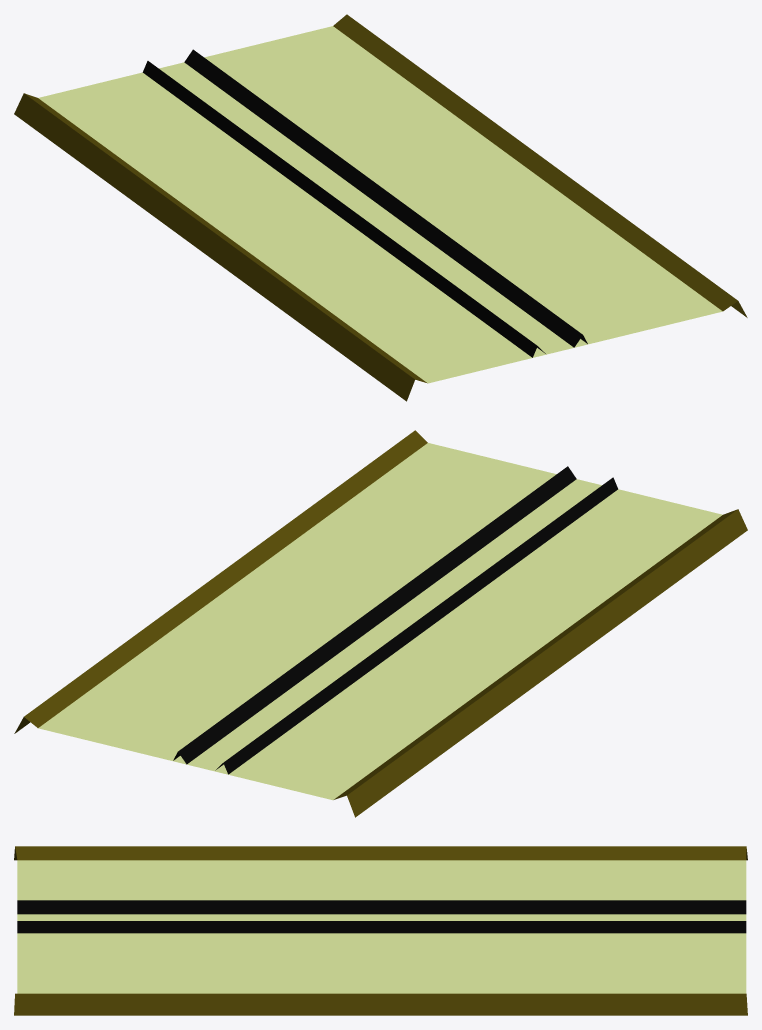
The model's file is Trap_circleblade_stand.fbx.
3 views of the same model, one above another, from view 1: azimuth 30°, elevation 25°; view 2: azimuth 150°, elevation 25°; view 3: azimuth 270°, elevation 25° (orthographic). The views are drawn at different scales.
Parts seen in each view (by area): view 1: Trap_circleBlade_middle; view 2: Trap_circleBlade_middle; view 3: Trap_circleBlade_middle.
Part boxes in pixels (box(x1,y1,x2,y2)): Trap_circleBlade_middle: box(14, 14, 747, 401); Trap_circleBlade_middle: box(14, 430, 747, 817); Trap_circleBlade_middle: box(14, 846, 747, 1015).
Bounding box in the file's own units: 0.5 × 0.0308 × 0.9968.
